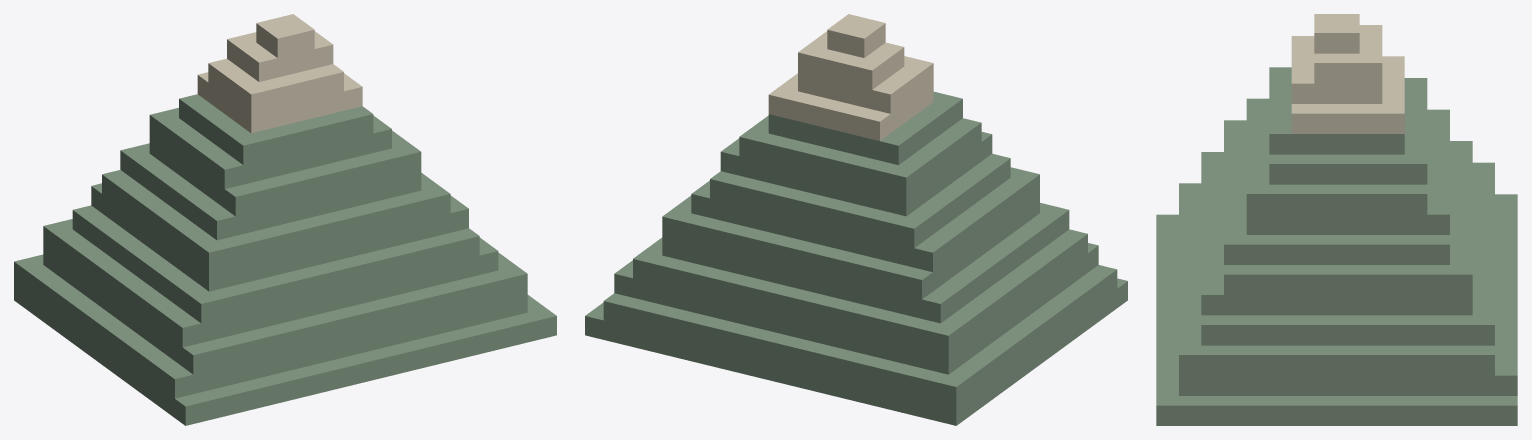
Rendered from geospatial-01.glb.
3 renders of one model, left to right at view 1: azimuth 30°, elevation 25°; view 2: azimuth 150°, elevation 25°; view 3: azimuth 270°, elevation 25°, orthographic. The views are drawn at different scales.
Visible parts, largest first — view 1: Terrain model; view 2: Terrain model; view 3: Terrain model.
Boxes of the visible parts, bbox=[...] form: Terrain model: bbox=[14, 14, 556, 425]; Terrain model: bbox=[585, 14, 1127, 425]; Terrain model: bbox=[1156, 14, 1517, 425].
Bounding box in the file's own units: 1.6 × 1.2 × 1.28.
